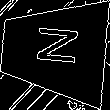N_W: (28, 28, 80, 72)
